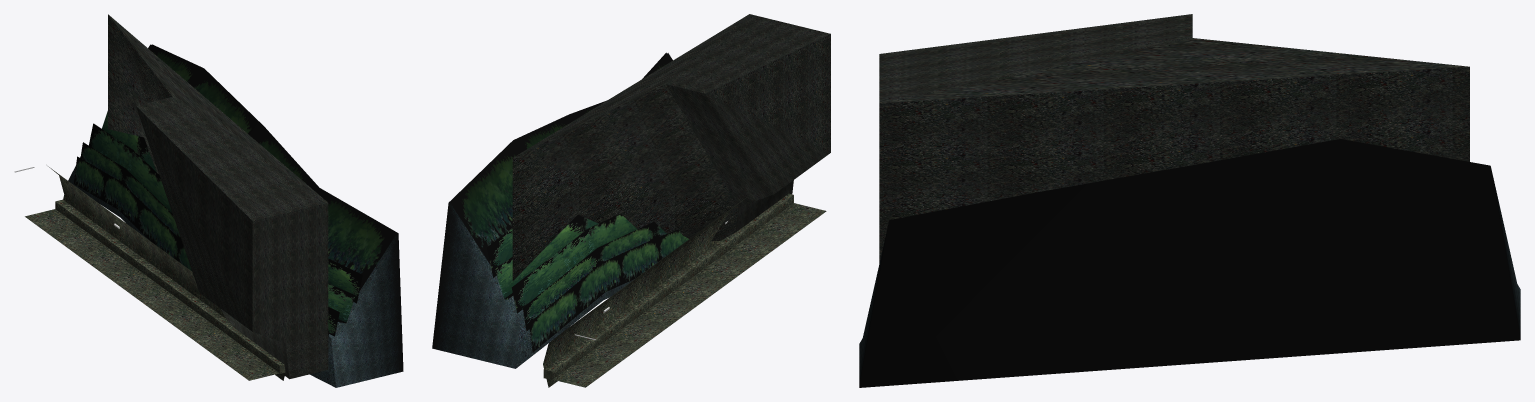
Rendered from OUSA02_L.glb.
The picture shows the model from 3 angles, left to right: view 1: azimuth 30°, elevation 25°; view 2: azimuth 150°, elevation 25°; view 3: azimuth 270°, elevation 25°; orthographic projection. The views are drawn at different scales.
Visible parts, largest first — view 1: Joint_1111, Model; view 2: Joint_1111, Model; view 3: Model, Joint_1111.
Boxes of the visible parts, box(x1,y1,x2,y2) form: Joint_1111: box(108, 14, 328, 379); Model: box(25, 44, 403, 387); Joint_1111: box(512, 14, 830, 280); Model: box(432, 52, 826, 387); Model: box(859, 139, 1520, 387); Joint_1111: box(879, 14, 1469, 263).
Bounding box in the file's own units: 40.92 × 51.46 × 110.
7 materials, 4 textured.
